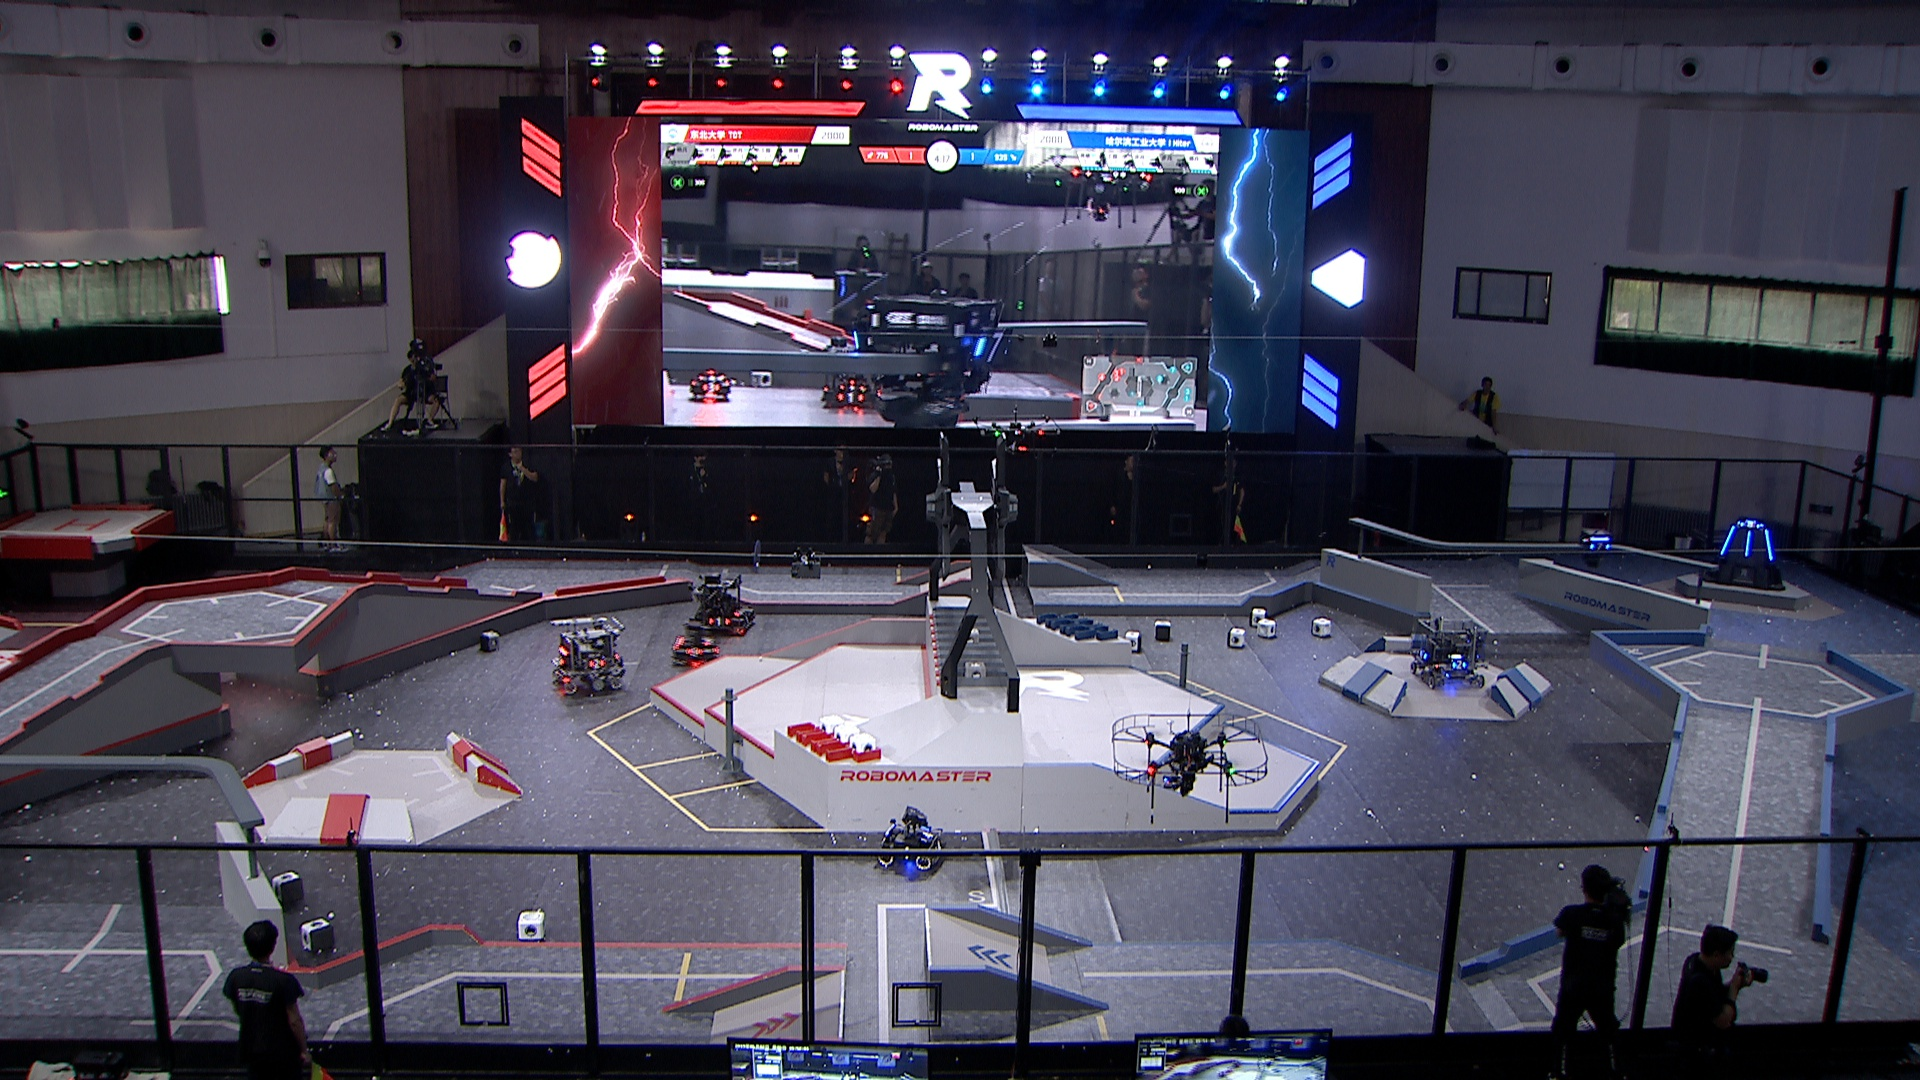armor: (1717, 524, 1735, 556), (1764, 527, 1776, 562), (1743, 529, 1754, 559), (1585, 541, 1611, 553), (684, 646, 707, 659), (585, 659, 609, 671), (707, 617, 732, 628), (1737, 520, 1766, 527), (931, 839, 949, 851), (918, 831, 934, 843), (1449, 659, 1466, 670), (1416, 647, 1429, 661), (700, 636, 713, 647), (741, 616, 756, 626)
base: (1697, 516, 1788, 589)
car: (1406, 616, 1495, 692), (549, 611, 626, 698), (684, 571, 760, 637), (877, 807, 951, 873), (670, 621, 723, 666)
ignore: (852, 286, 997, 429), (822, 367, 872, 411), (688, 367, 733, 404)
watcher: (1575, 524, 1621, 566)
